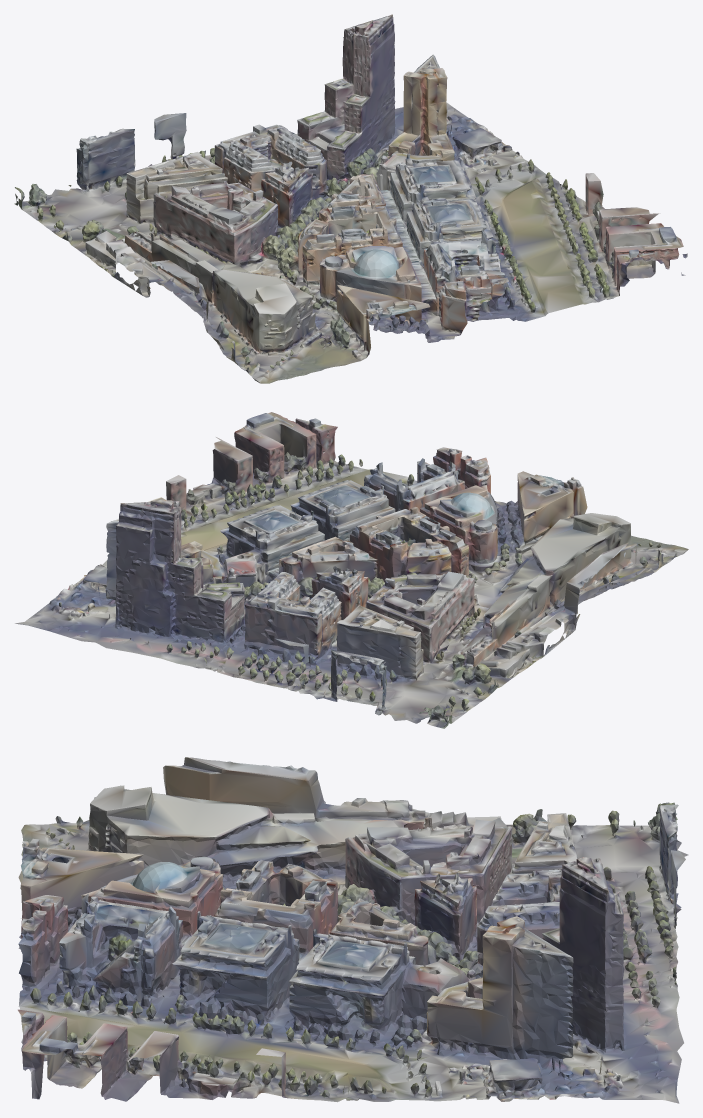
File: tile-3894_58185.glb
3 renders of one model, top to bottom at view 1: azimuth 30°, elevation 25°; view 2: azimuth 150°, elevation 25°; view 3: azimuth 270°, elevation 25°, orthographic. The views are drawn at different scales.
Visible parts, largest first — view 1: world; view 2: world; view 3: world.
Part boxes in pixels (x1,y1,x2,y2): world: [14, 14, 687, 383]; world: [15, 412, 688, 728]; world: [18, 757, 688, 1103].
Bounding box in the file's own units: 371 × 110 × 373.
